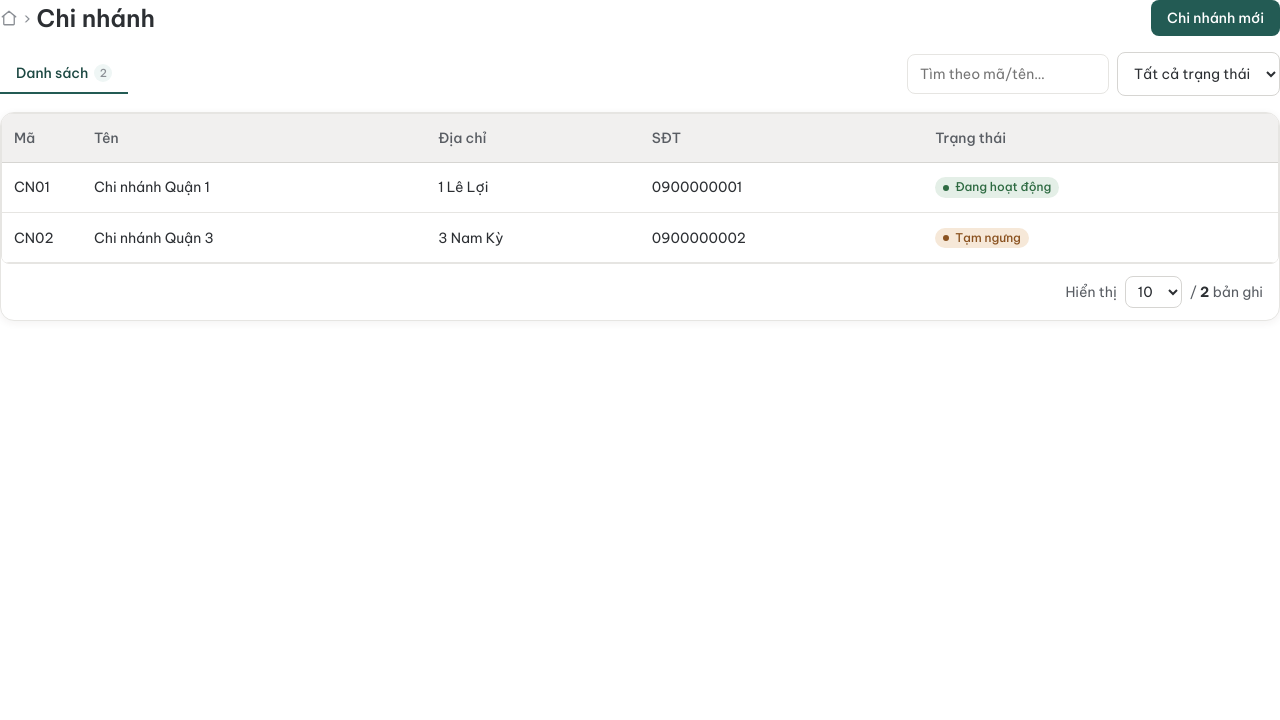
BranchesPage › validates required fields
Expected: the text "Chi nhánh Quận 1" is shown, [82,162,426,212]
Click the button "Chi nhánh mới". click: coordinates (1216, 18)
box: [1151,0,1279,36]
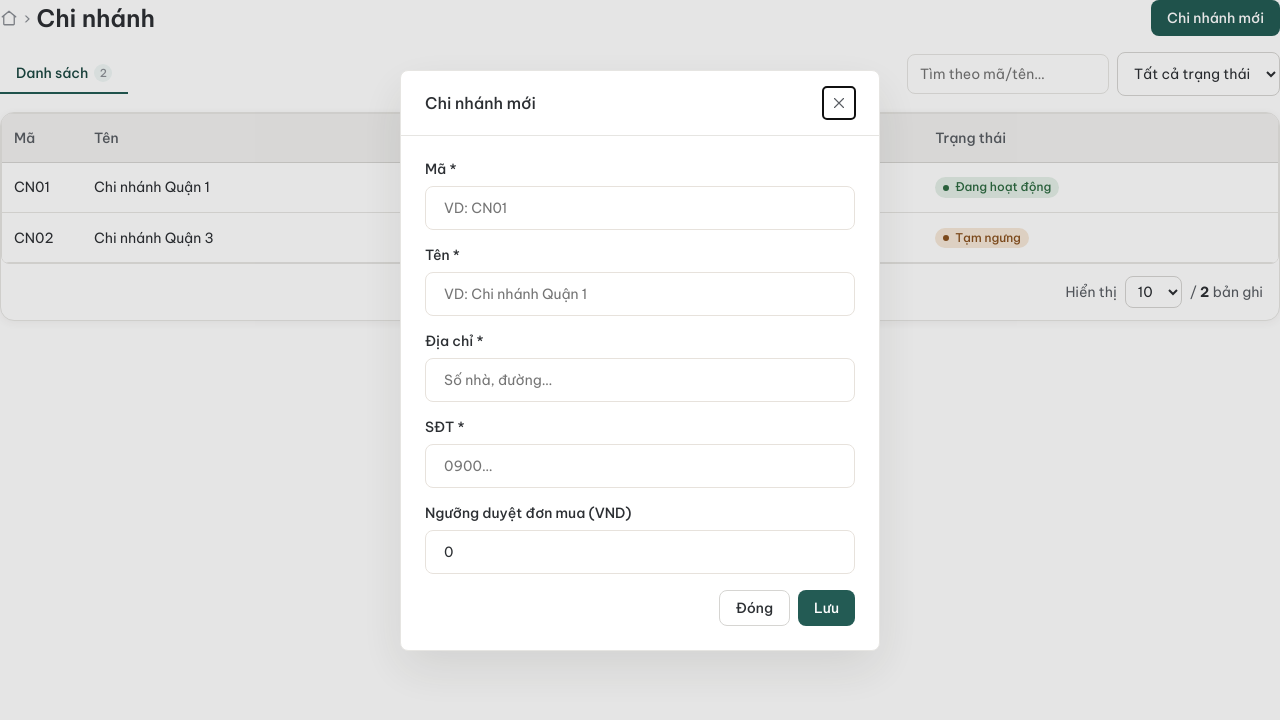
Click the button "Lưu". click: coordinates (826, 608)
box: [798,590,855,626]
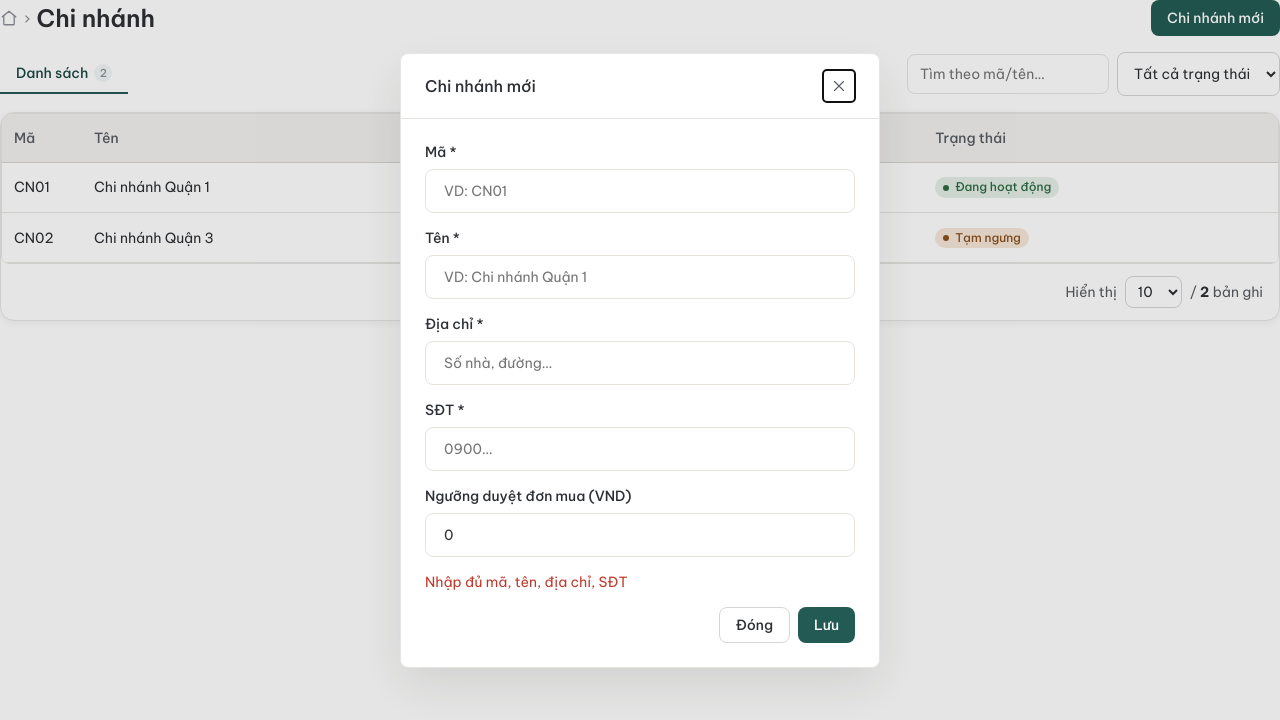
Now the text "Nhập đủ mã, tên, địa chỉ, SĐT" is shown, box [425,572,628,590]
